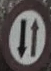Two way: (3, 2, 47, 64)
